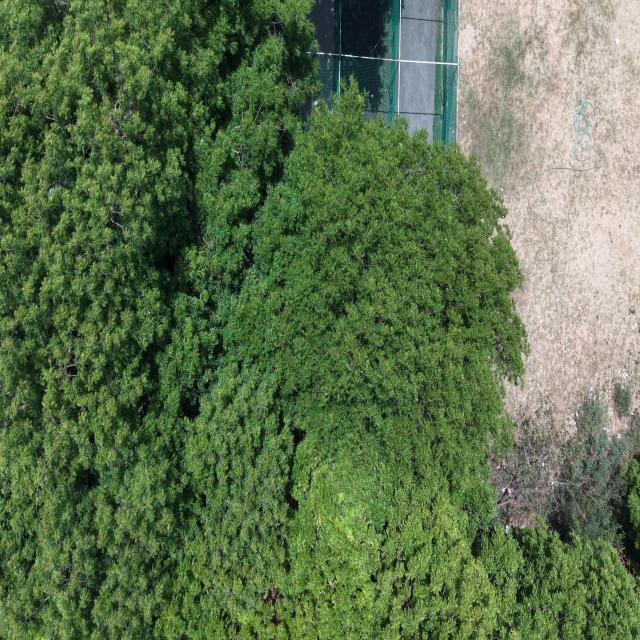DRY_AREA: (458, 0, 639, 425)
VEGETATION_TREE: (0, 0, 639, 639), (0, 0, 313, 638), (193, 87, 525, 637), (493, 392, 639, 554), (481, 522, 639, 639), (550, 395, 637, 547), (491, 398, 566, 526), (617, 408, 639, 574), (621, 459, 639, 572), (613, 382, 631, 417)
